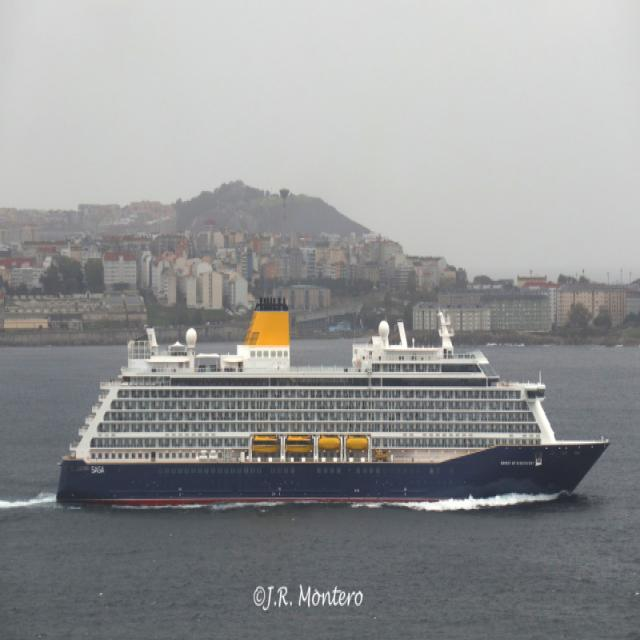cruises: (53, 300, 616, 517)
